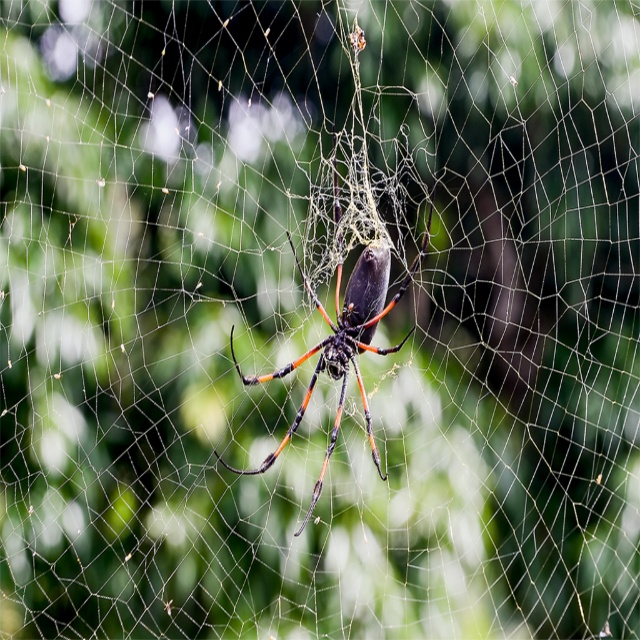Spider: (213, 126, 436, 537)
